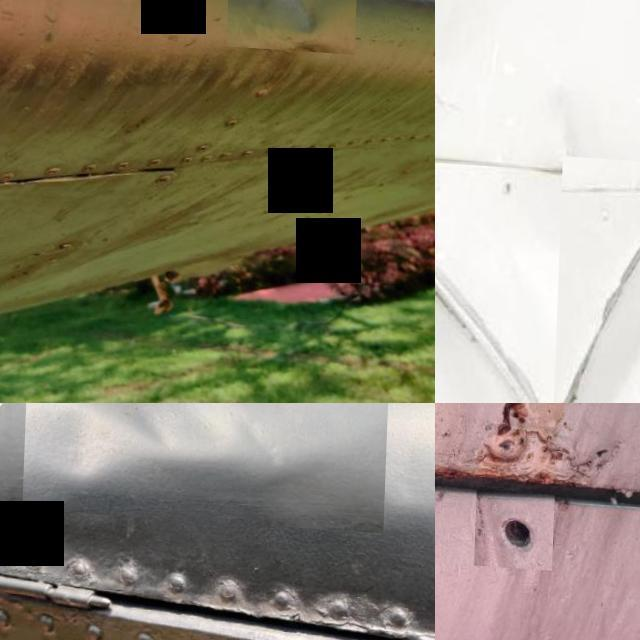Dent: (25, 403, 394, 527), (584, 272, 640, 403), (228, 0, 359, 48)
Missing_Fastener: (478, 484, 558, 565)
